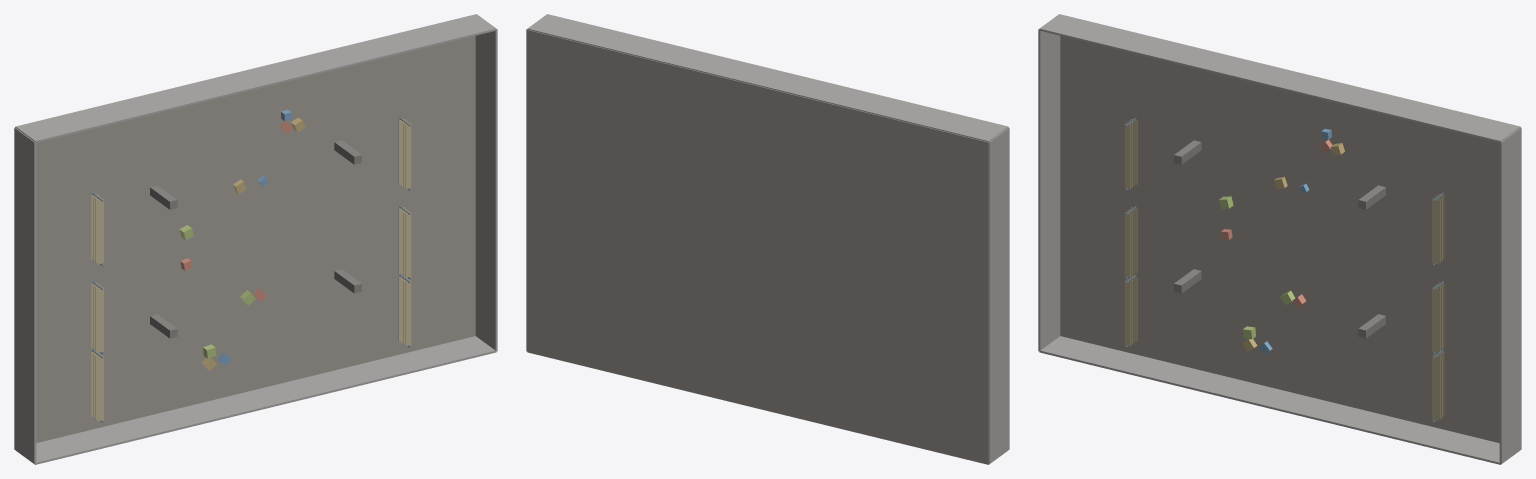
Rendered from warehouse.glb.
The picture shows the model from 3 angles, left to right: view 1: azimuth 30°, elevation 25°; view 2: azimuth 150°, elevation 25°; view 3: azimuth 330°, elevation 25°; orthographic projection.
Visible parts, largest first — view 1: part_000, part_002, part_001, part_003, part_004; view 2: part_000, part_002, part_003, part_001; view 3: part_000, part_002, part_001, part_004, part_003.
Part boxes in pixels (left/top/right/bottom): part_000: left=36, top=36, right=475, bottom=442; part_002: left=15, top=14, right=496, bottom=142; part_001: left=34, top=336, right=496, bottom=464; part_003: left=14, top=127, right=36, bottom=463; part_004: left=475, top=29, right=497, bottom=351; part_000: left=527, top=29, right=988, bottom=463; part_002: left=527, top=14, right=1008, bottom=141; part_003: left=988, top=127, right=1009, bottom=463; part_001: left=527, top=352, right=989, bottom=464; part_000: left=1060, top=36, right=1499, bottom=442; part_002: left=1039, top=14, right=1520, bottom=142; part_001: left=1039, top=336, right=1501, bottom=464; part_004: left=1499, top=127, right=1521, bottom=463; part_003: left=1038, top=29, right=1060, bottom=351.
Bounding box in the file's own units: 60.25 × 40.25 × 4.6.
